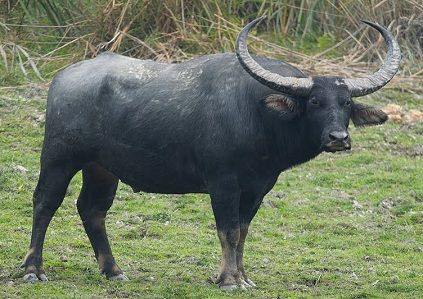buffalo: (17, 18, 404, 287)
